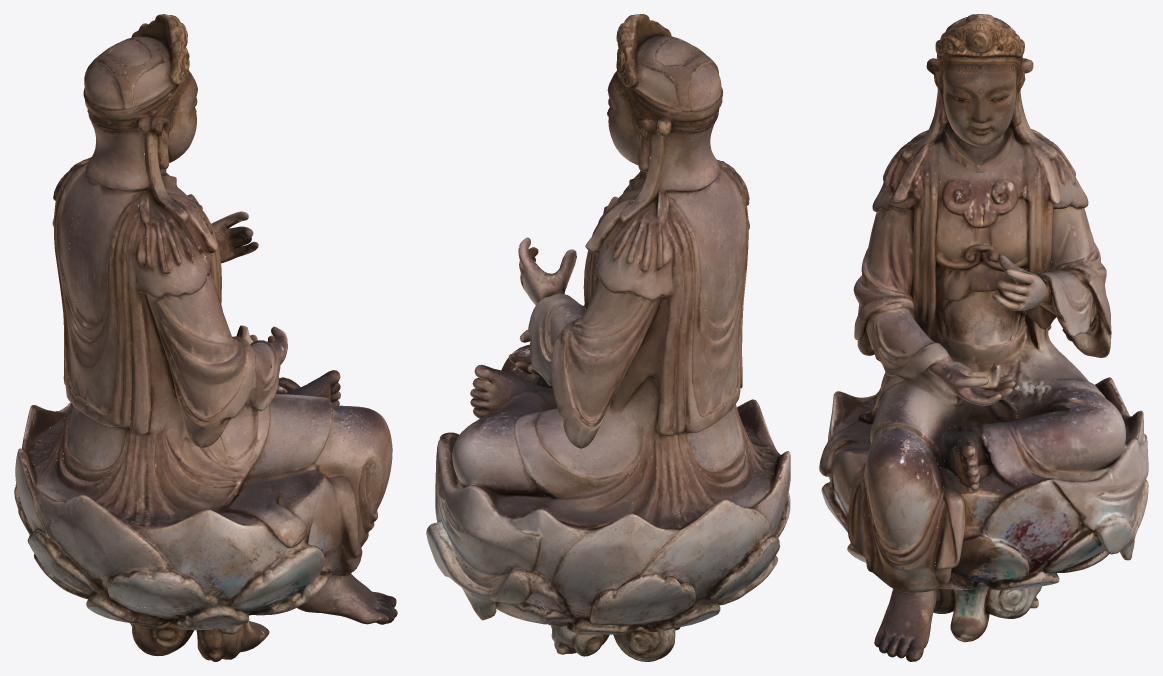
File: f4-samantabhadra.glb
3 views of the same model, side by side, from view 1: azimuth 30°, elevation 25°; view 2: azimuth 150°, elevation 25°; view 3: azimuth 270°, elevation 25° (orthographic). The views are drawn at different scales.
Visible parts, largest first — view 1: tripo_node_11c5b948-eee1-49b6-8853-1768e941bb3a; view 2: tripo_node_11c5b948-eee1-49b6-8853-1768e941bb3a; view 3: tripo_node_11c5b948-eee1-49b6-8853-1768e941bb3a.
Part boxes in pixels (bbox=[...]): tripo_node_11c5b948-eee1-49b6-8853-1768e941bb3a: bbox=[14, 14, 397, 661]; tripo_node_11c5b948-eee1-49b6-8853-1768e941bb3a: bbox=[426, 14, 790, 661]; tripo_node_11c5b948-eee1-49b6-8853-1768e941bb3a: bbox=[819, 14, 1148, 661].
Size of the model in its own units: 0.5222 by 1 by 0.5011.
Materials: 1 (1 with a texture image).
